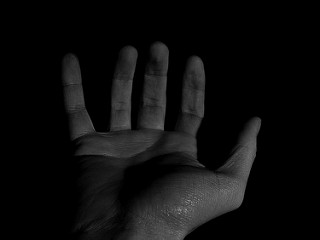palm: (75, 128, 217, 214)
